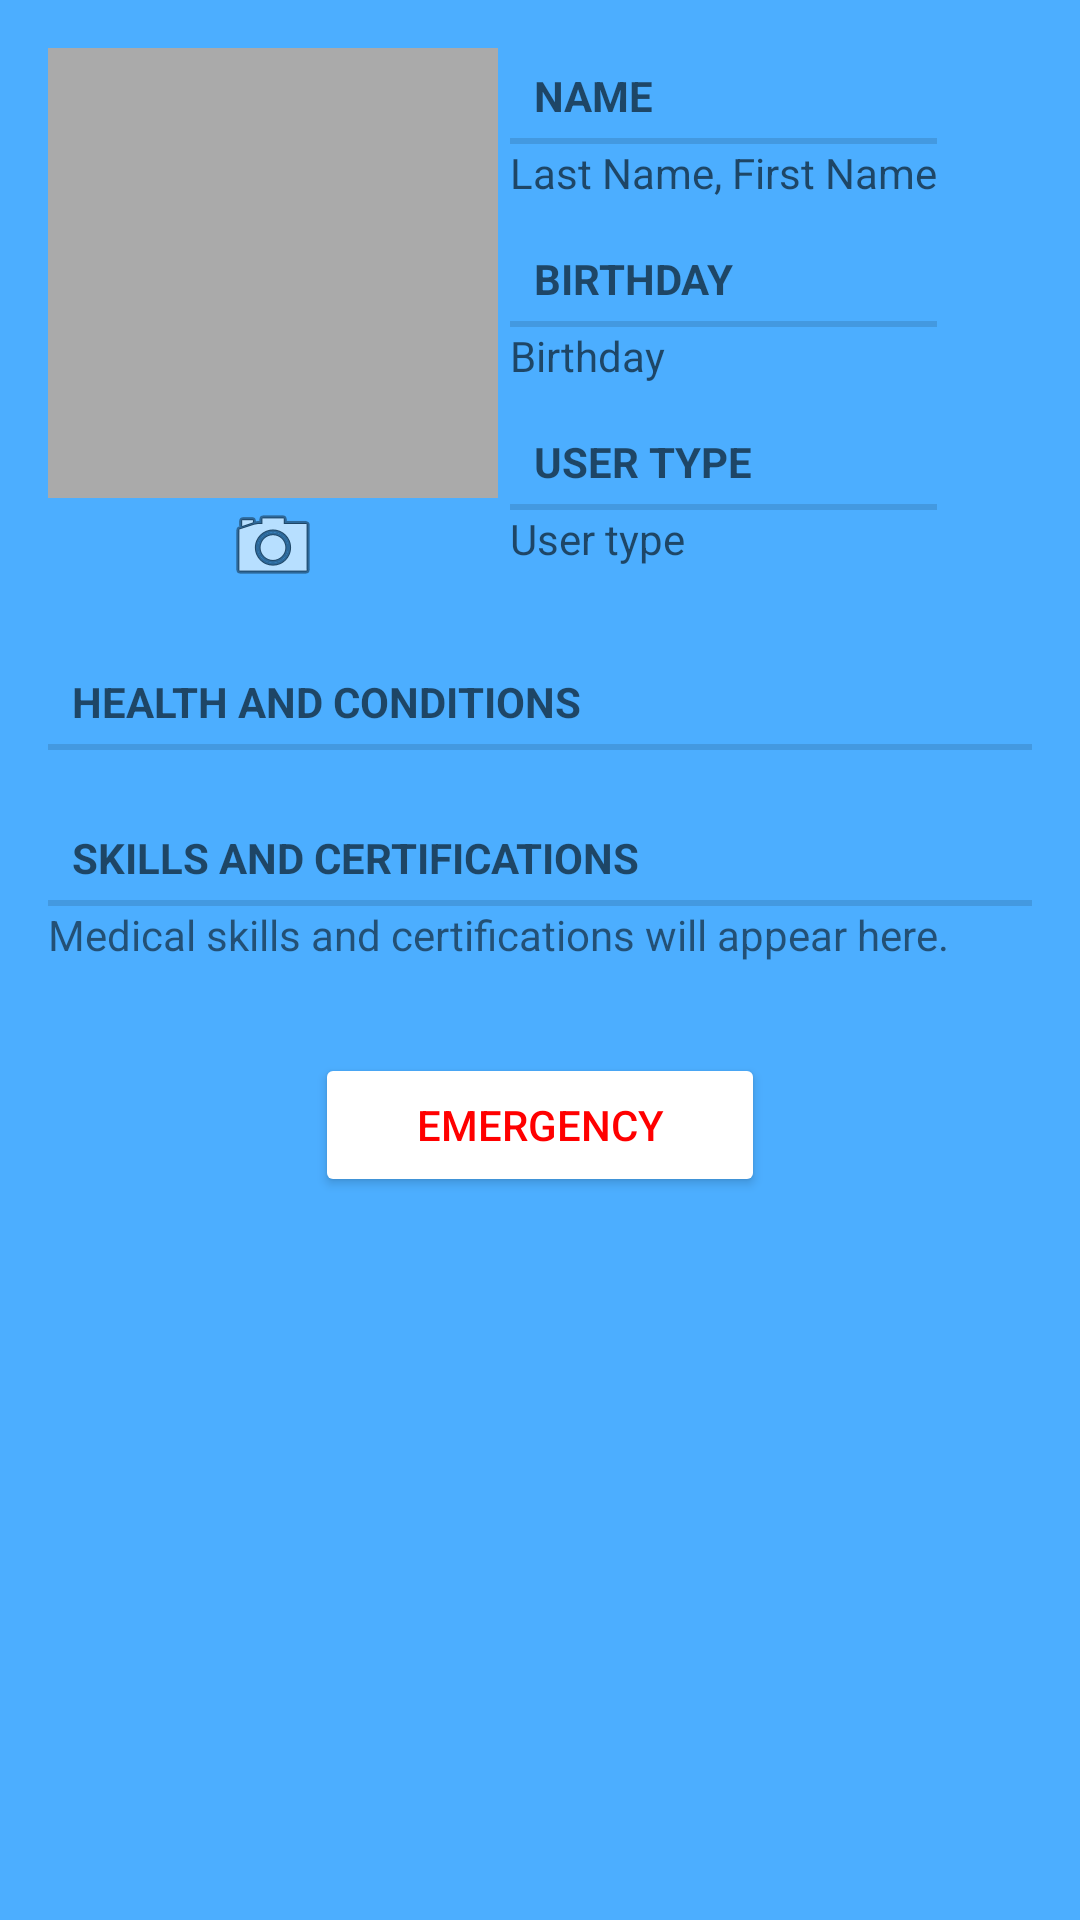

Icons on this 1080 x 1920 Android screen, each with the point to tap as point (x, y):
camera: point (273, 544)
